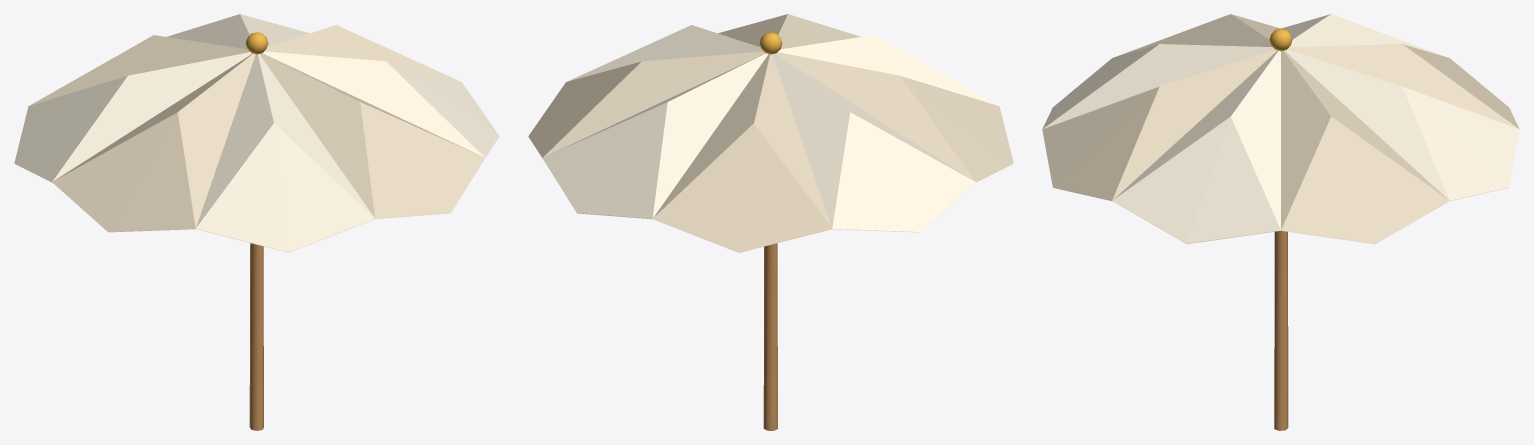
The model's file is beach_umbrella.obj.
3 views of the same model, side by side, from view 1: azimuth 30°, elevation 25°; view 2: azimuth 150°, elevation 25°; view 3: azimuth 270°, elevation 25° (orthographic).
Parts seen in each view (by area): view 1: beach_umbrella_umb_a, beach_umbrella_umb_b, beach_umbrella_wood_light; view 2: beach_umbrella_umb_b, beach_umbrella_umb_a, beach_umbrella_wood_light; view 3: beach_umbrella_umb_a, beach_umbrella_umb_b, beach_umbrella_wood_light, beach_umbrella_cloth_dark.
Boxes of the visible parts, x1,y1,x2,y2 form: beach_umbrella_umb_a: [14, 14, 499, 252]; beach_umbrella_umb_b: [29, 25, 485, 231]; beach_umbrella_wood_light: [249, 243, 263, 430]; beach_umbrella_umb_b: [528, 14, 1013, 252]; beach_umbrella_umb_a: [542, 25, 998, 231]; beach_umbrella_wood_light: [763, 243, 777, 430]; beach_umbrella_umb_a: [1042, 14, 1519, 243]; beach_umbrella_umb_b: [1042, 14, 1519, 243]; beach_umbrella_wood_light: [1274, 231, 1288, 430]; beach_umbrella_cloth_dark: [1053, 187, 1508, 243].
Size of the model in its own units: 2.9 by 2.67 by 2.9.
